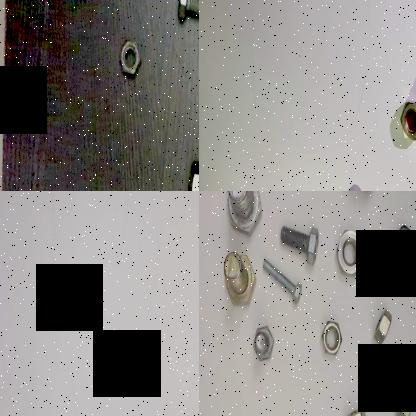Bolts: (222, 239, 258, 316), (260, 257, 306, 313), (276, 213, 320, 268), (219, 191, 265, 239), (250, 315, 276, 365), (174, 0, 199, 29)
NUTS: (334, 222, 370, 280), (112, 30, 148, 80), (370, 294, 396, 356), (318, 315, 344, 365), (391, 220, 416, 269), (391, 376, 416, 416), (396, 96, 416, 144), (340, 397, 374, 416)
